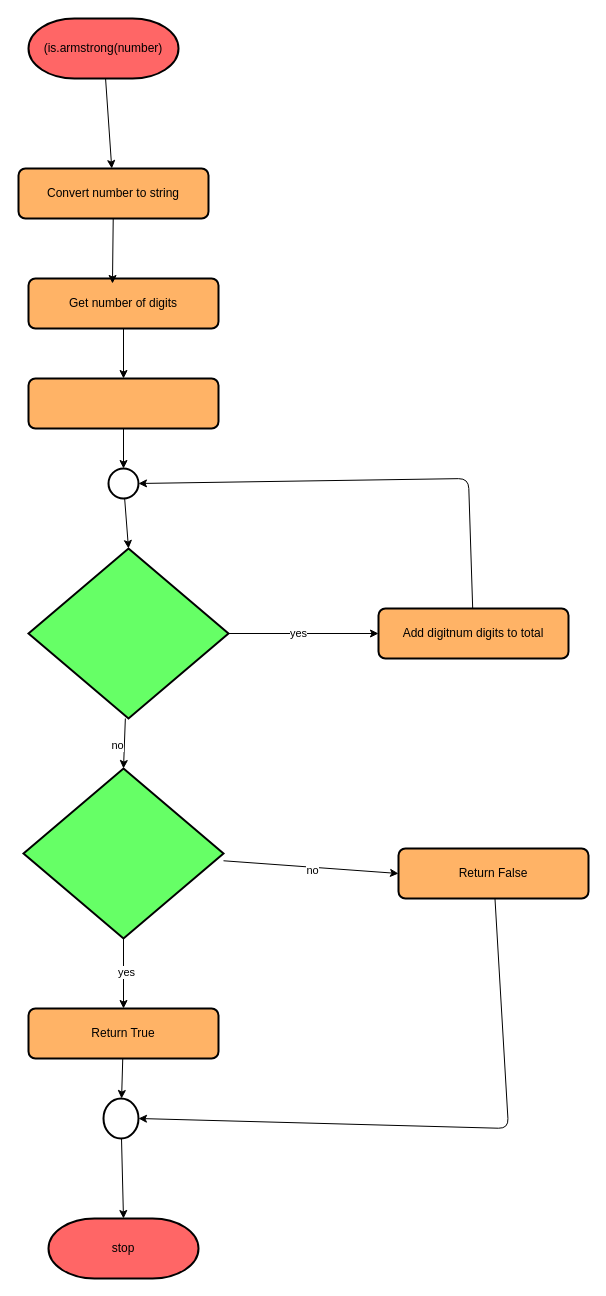
The diagram is 606 pixels wide and 1296 high, and some of its shapes have lost their labels. The centre of each missing label's shape, as x and y in pixels:
"For each digit in string": point 128,633
Initialize total to 0: point 123,403
Is total equal to number?: point 123,853
